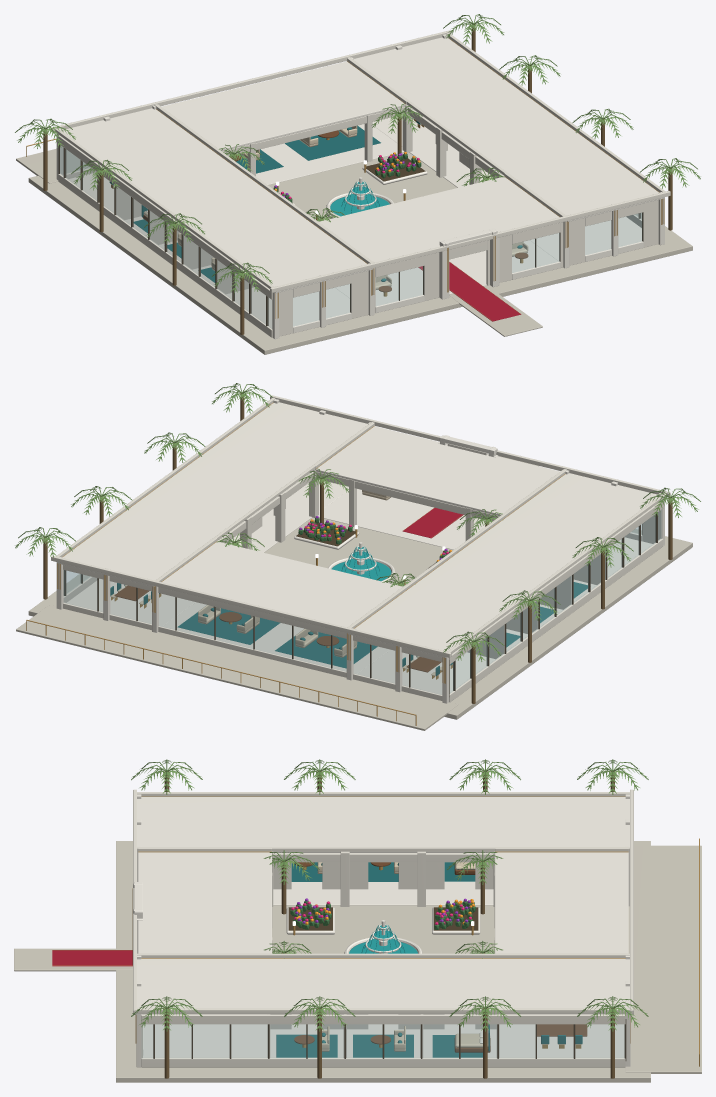
File: SeasideMansion.fbx
3 views of the same model, one above another, from view 1: azimuth 30°, elevation 25°; view 2: azimuth 150°, elevation 25°; view 3: azimuth 270°, elevation 25° (orthographic). The views are drawn at different scales.
Visible parts, largest first — view 1: Flat roof slab.001, Flat roof slab, Flat roof slab.003, Continuous ground slab, Flat roof slab.002, Exterior glazed wall, Courtyard paving, Wing floor.001, Wing floor, Hall floor.001, Hall floor, Facade parapet (+26 smaller); view 2: Flat roof slab.001, Flat roof slab, Sea terrace, Panoramic ocean glass, Flat roof slab.002, Flat roof slab.003, Continuous ground slab, Exterior glazed wall, Wing floor.001, Courtyard paving, Hall floor, Wing floor (+19 smaller); view 3: Flat roof slab.001, Flat roof slab, Sea terrace, Exterior glazed wall.001, Flat roof slab.003, Flat roof slab.002, Continuous ground slab, Wing floor.001, Courtyard paving, Exterior plinth.001, Exterior head.001, Wing floor (+20 smaller).
Boxes of the visible parts, x1,y1,x2,y2 form: Flat roof slab.001: [353, 37, 664, 221]; Flat roof slab: [63, 108, 372, 292]; Flat roof slab.003: [161, 61, 406, 151]; Continuous ground slab: [28, 175, 692, 354]; Flat roof slab.002: [319, 177, 559, 262]; Exterior glazed wall: [60, 146, 272, 328]; Courtyard paving: [268, 152, 457, 221]; Wing floor.001: [372, 114, 641, 260]; Wing floor: [68, 173, 349, 327]; Hall floor.001: [256, 124, 404, 184]; Hall floor: [335, 240, 557, 305]; Facade parapet: [270, 191, 670, 292]; Flat roof slab.001: [56, 402, 367, 586]; Flat roof slab: [348, 473, 657, 657]; Sea terrace: [16, 605, 458, 730]; Panoramic ocean glass: [64, 570, 441, 694]; Flat roof slab.002: [315, 426, 559, 516]; Flat roof slab.003: [162, 541, 402, 627]; Continuous ground slab: [28, 529, 692, 719]; Exterior glazed wall: [450, 510, 661, 693]; Wing floor.001: [67, 479, 348, 626]; Courtyard paving: [264, 517, 453, 586]; Hall floor: [318, 489, 490, 549]; Wing floor: [358, 537, 652, 694]; Flat roof slab.001: [137, 958, 629, 1014]; Flat roof slab: [137, 797, 629, 852]; Sea terrace: [625, 845, 701, 1073]; Exterior glazed wall.001: [142, 1024, 624, 1057]; Flat roof slab.003: [495, 852, 628, 953]; Flat roof slab.002: [138, 852, 271, 953]; Continuous ground slab: [116, 841, 650, 1082]; Wing floor.001: [143, 1014, 623, 1057]; Courtyard paving: [272, 905, 494, 953]; Exterior plinth.001: [141, 1057, 625, 1067]; Exterior head.001: [141, 1014, 625, 1024]; Wing floor: [273, 881, 493, 905].
Bounding box in the file's own units: 4965 × 702 × 5400.
